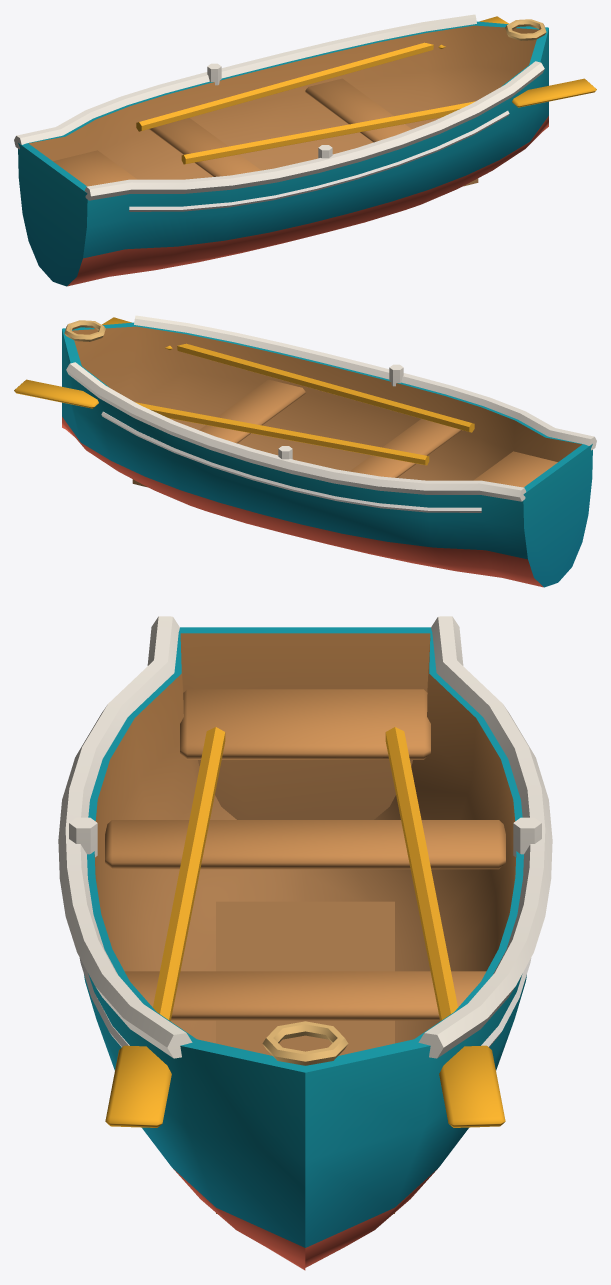
Rendered from boat_small.glb.
The picture shows the model from 3 angles, top to bottom: view 1: azimuth 30°, elevation 25°; view 2: azimuth 150°, elevation 25°; view 3: azimuth 270°, elevation 25°; orthographic projection. The views are drawn at different scales.
Parts seen in each view (by area): view 1: boat_small; view 2: boat_small; view 3: boat_small.
Part boxes in pixels (<box>): boat_small: <box>14,14,596,286</box>; boat_small: <box>14,315,596,587</box>; boat_small: <box>58,616,552,1270</box>.
Bounding box in the file's own units: 3.21 × 0.8573 × 1.38.
